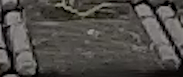bag: (3, 4, 180, 77)
